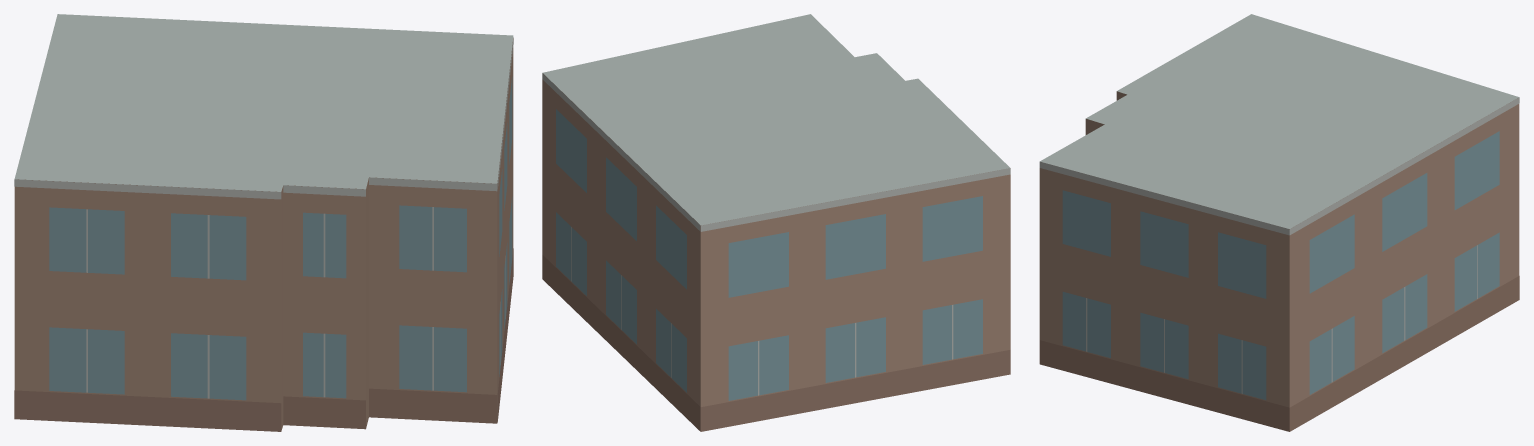
The model's file is survey-upis-33019127.glb.
3 renders of one model, left to right at view 1: azimuth 30°, elevation 25°; view 2: azimuth 150°, elevation 25°; view 3: azimuth 270°, elevation 25°, orthographic. The views are drawn at different scales.
Parts seen in each view (by area): view 1: survey-upis-33019127.tmp; view 2: survey-upis-33019127.tmp; view 3: survey-upis-33019127.tmp.
Part boxes in pixels (x1,y1,x2,y2): survey-upis-33019127.tmp: (14,14,513,431); survey-upis-33019127.tmp: (542,14,1010,431); survey-upis-33019127.tmp: (1039,14,1519,431).
Bounding box in the file's own units: 17.76 × 7.8 × 16.74.
